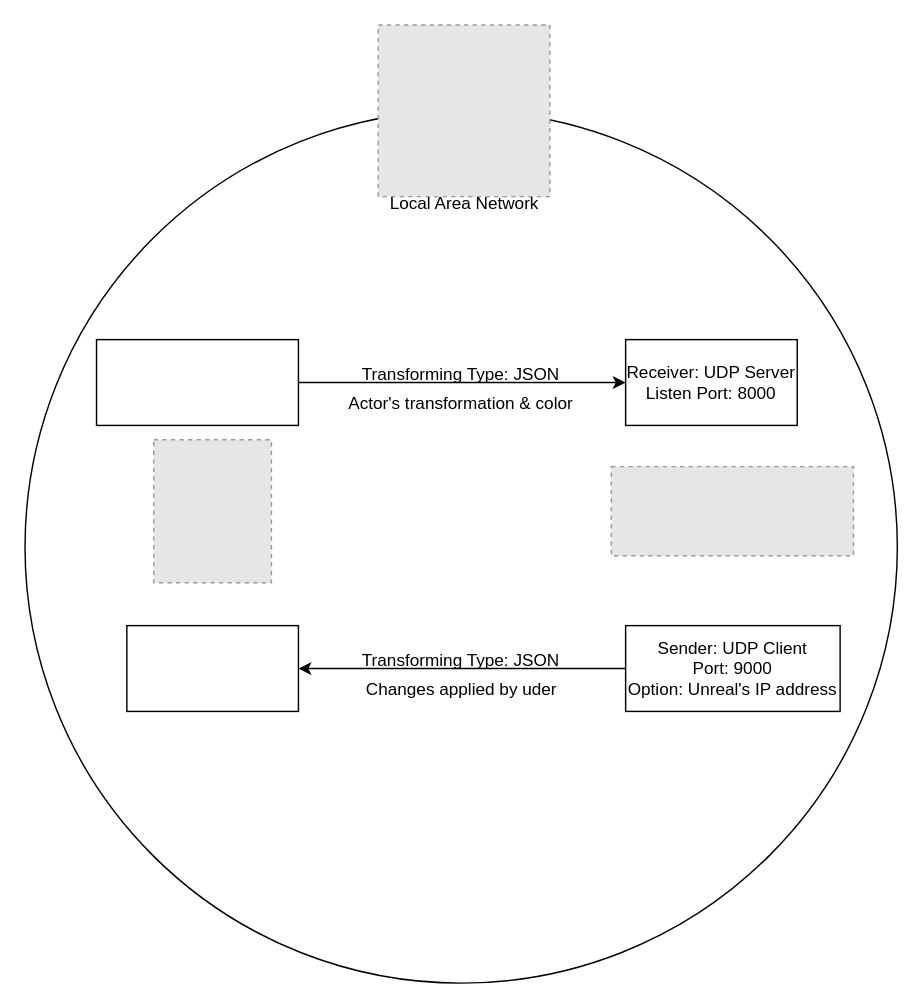
Some shapes in this 922 by 1008 pixel diagram are drawn without their labels. Grey dashed boxes stand in for pictures. Here are the shapes that lost their labels. From the top down, the box of each, then its label:
(95, 338, 298, 425): Sender: UDP Client Port: 8000 Option: Unity's IP address
(125, 624, 298, 711): Receiver: UDP Server Listen Port: 9000
